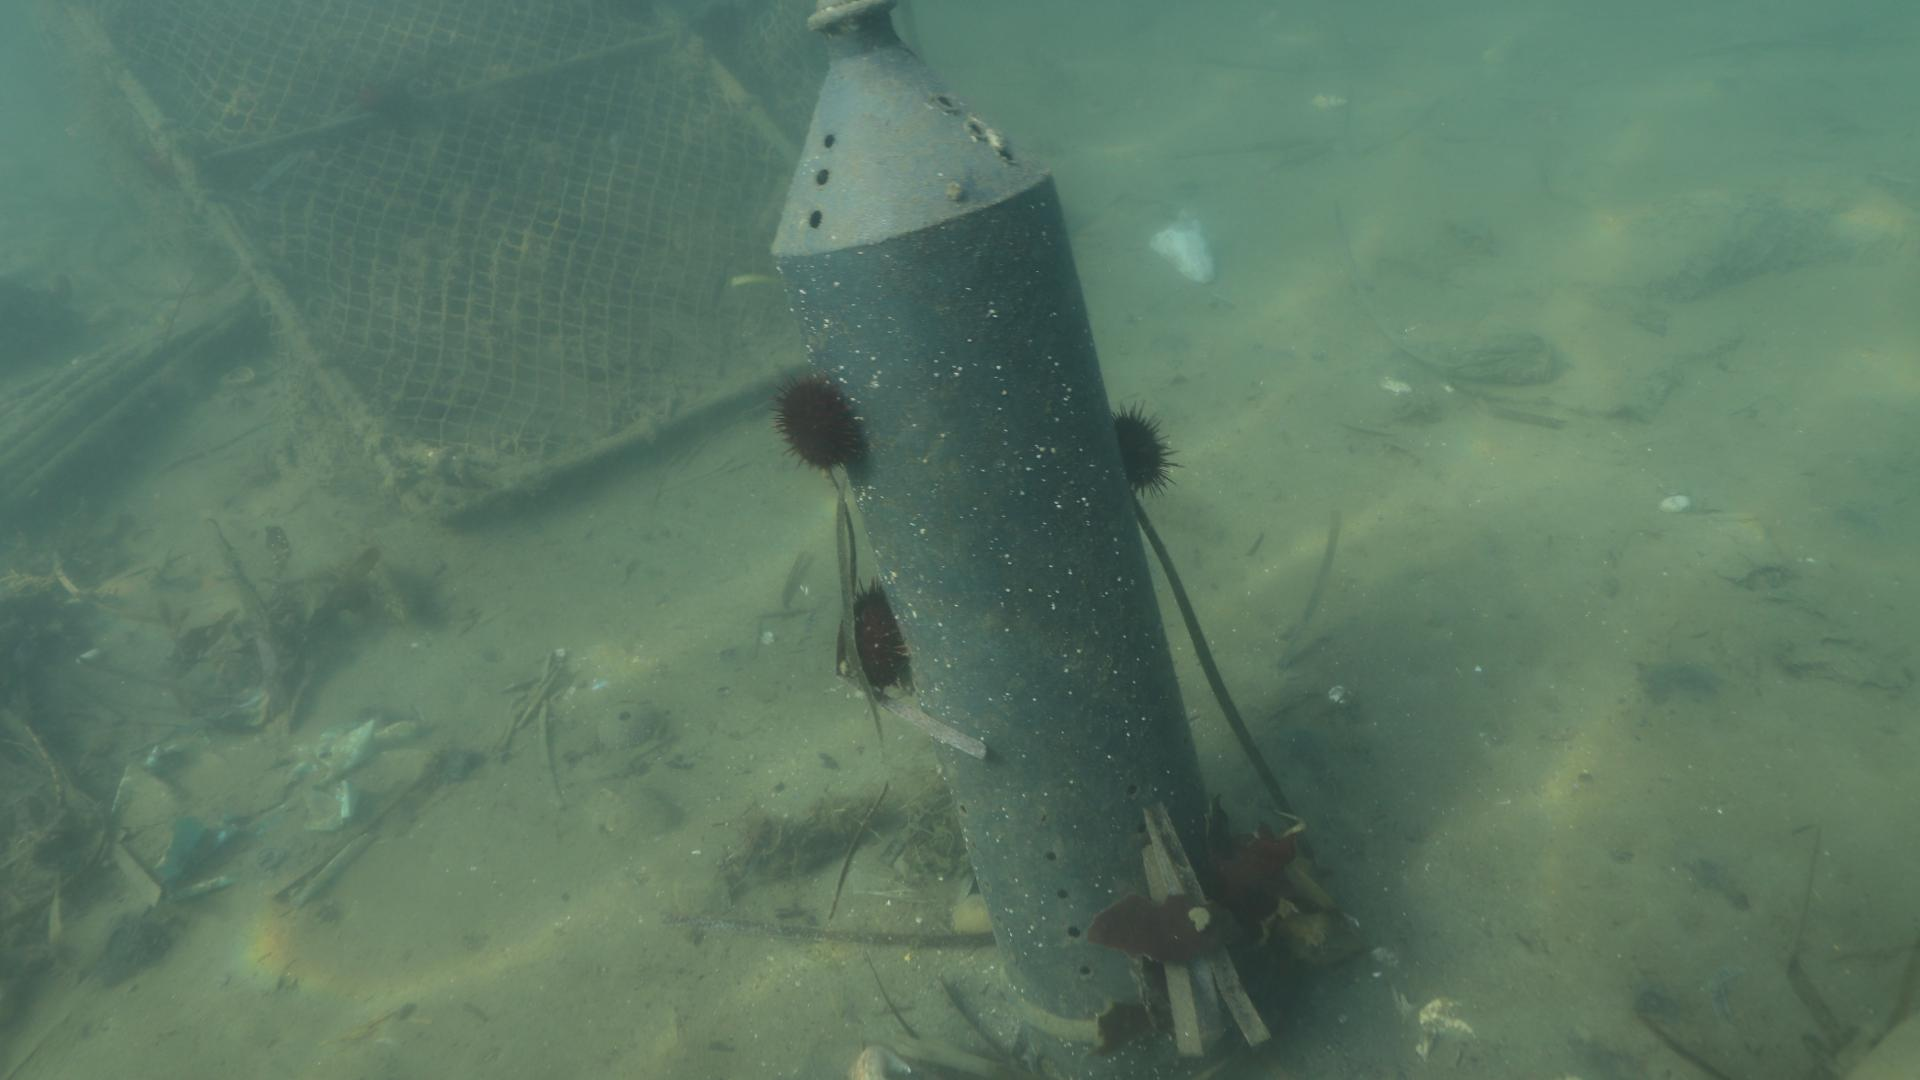eel fish trap: (767, 0, 1238, 1022)
rectangular fish trap: (61, 0, 796, 527)
